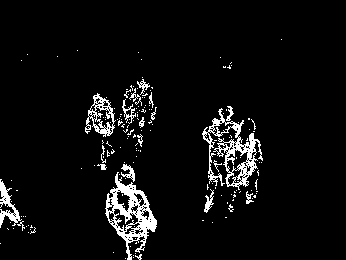person: (105, 162, 157, 258), (202, 104, 242, 212), (82, 90, 116, 169), (233, 119, 263, 208), (119, 85, 143, 159)
